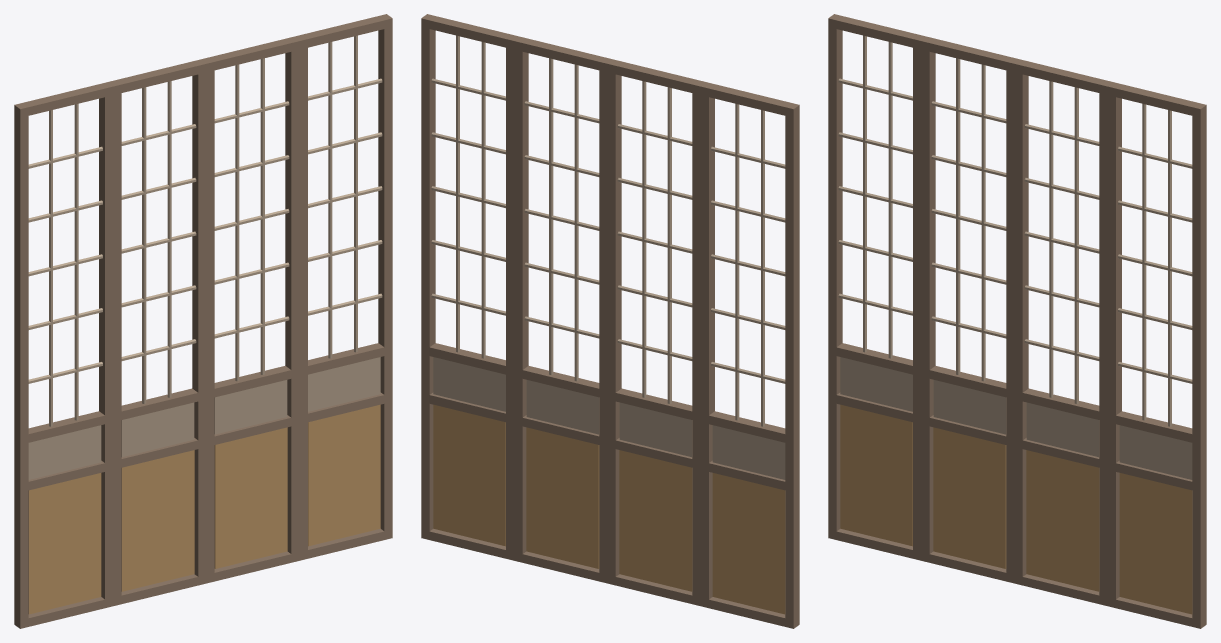
File: arch_lattice_door.glb
3 renders of one model, left to right at view 1: azimuth 30°, elevation 25°; view 2: azimuth 150°, elevation 25°; view 3: azimuth 330°, elevation 25°, orthographic.
Parts seen in each view (by area): view 1: arch_lattice_door/door_apron_panel_00050, arch_lattice_door/door_apron_panel_00014, arch_lattice_door/door_apron_panel_00032, arch_lattice_door/door_apron_panel_00068, arch_lattice_door/door_stile_00000, arch_lattice_door/door_stile_00001, arch_lattice_door/door_stile_00019, arch_lattice_door/door_stile_00037, arch_lattice_door/door_stile_00055, arch_lattice_door/door_stile_00018, arch_lattice_door/door_stile_00054, arch_lattice_door/door_stile_00036 (+28 smaller); view 2: arch_lattice_door/door_apron_panel_00050, arch_lattice_door/door_apron_panel_00014, arch_lattice_door/door_apron_panel_00032, arch_lattice_door/door_apron_panel_00068, arch_lattice_door/door_stile_00000, arch_lattice_door/door_stile_00001, arch_lattice_door/door_stile_00019, arch_lattice_door/door_stile_00037, arch_lattice_door/door_stile_00055, arch_lattice_door/door_stile_00018, arch_lattice_door/door_stile_00054, arch_lattice_door/door_stile_00036 (+28 smaller); view 3: arch_lattice_door/door_apron_panel_00032, arch_lattice_door/door_apron_panel_00050, arch_lattice_door/door_apron_panel_00068, arch_lattice_door/door_apron_panel_00014, arch_lattice_door/door_stile_00055, arch_lattice_door/door_stile_00054, arch_lattice_door/door_stile_00036, arch_lattice_door/door_stile_00018, arch_lattice_door/door_stile_00000, arch_lattice_door/door_stile_00037, arch_lattice_door/door_stile_00001, arch_lattice_door/door_stile_00019 (+28 smaller).
Boxes of the visible parts, x1,y1,x2,y2 form: arch_lattice_door/door_apron_panel_00050: (214,427,287,568); arch_lattice_door/door_apron_panel_00014: (28,473,101,614); arch_lattice_door/door_apron_panel_00032: (121,450,194,591); arch_lattice_door/door_apron_panel_00068: (308,404,380,546); arch_lattice_door/door_stile_00000: (14,103,28,628); arch_lattice_door/door_stile_00001: (99,82,113,608); arch_lattice_door/door_stile_00019: (192,59,206,585); arch_lattice_door/door_stile_00037: (285,37,299,562); arch_lattice_door/door_stile_00055: (378,14,392,539); arch_lattice_door/door_stile_00018: (107,80,121,605); arch_lattice_door/door_stile_00054: (294,34,307,560); arch_lattice_door/door_stile_00036: (201,57,214,583); arch_lattice_door/door_apron_panel_00050: (526,427,599,568); arch_lattice_door/door_apron_panel_00014: (712,473,785,614); arch_lattice_door/door_apron_panel_00032: (619,450,692,591); arch_lattice_door/door_apron_panel_00068: (433,404,505,546); arch_lattice_door/door_stile_00000: (785,103,799,628); arch_lattice_door/door_stile_00001: (700,82,714,608); arch_lattice_door/door_stile_00019: (607,59,621,585); arch_lattice_door/door_stile_00037: (514,37,528,562); arch_lattice_door/door_stile_00055: (421,14,435,539); arch_lattice_door/door_stile_00018: (692,80,706,605); arch_lattice_door/door_stile_00054: (506,34,519,560); arch_lattice_door/door_stile_00036: (599,57,612,583); arch_lattice_door/door_apron_panel_00032: (933,427,1006,568); arch_lattice_door/door_apron_panel_00050: (1026,450,1099,591); arch_lattice_door/door_apron_panel_00068: (1119,473,1192,614); arch_lattice_door/door_apron_panel_00014: (840,404,912,546); arch_lattice_door/door_stile_00055: (1192,103,1206,628); arch_lattice_door/door_stile_00054: (1107,82,1121,608); arch_lattice_door/door_stile_00036: (1014,59,1028,585); arch_lattice_door/door_stile_00018: (921,37,935,562); arch_lattice_door/door_stile_00000: (828,14,842,539); arch_lattice_door/door_stile_00037: (1099,80,1113,605); arch_lattice_door/door_stile_00001: (913,34,926,560); arch_lattice_door/door_stile_00019: (1006,57,1019,583).
Size of the model in its own units: 1.8 by 2.4 by 0.05.
